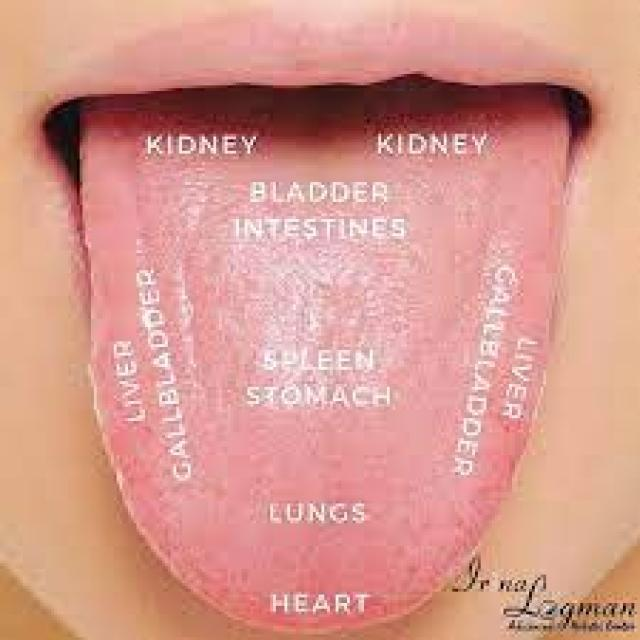discolored_patch: (63, 79, 576, 631)
